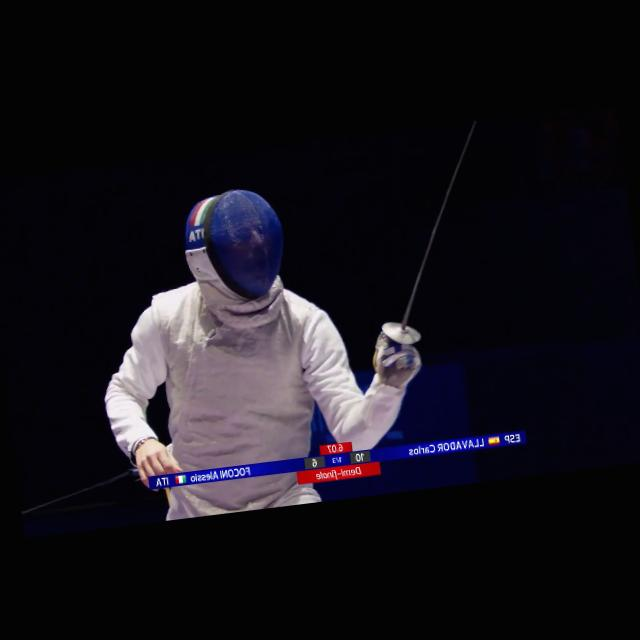blade: (348, 118, 517, 355)
